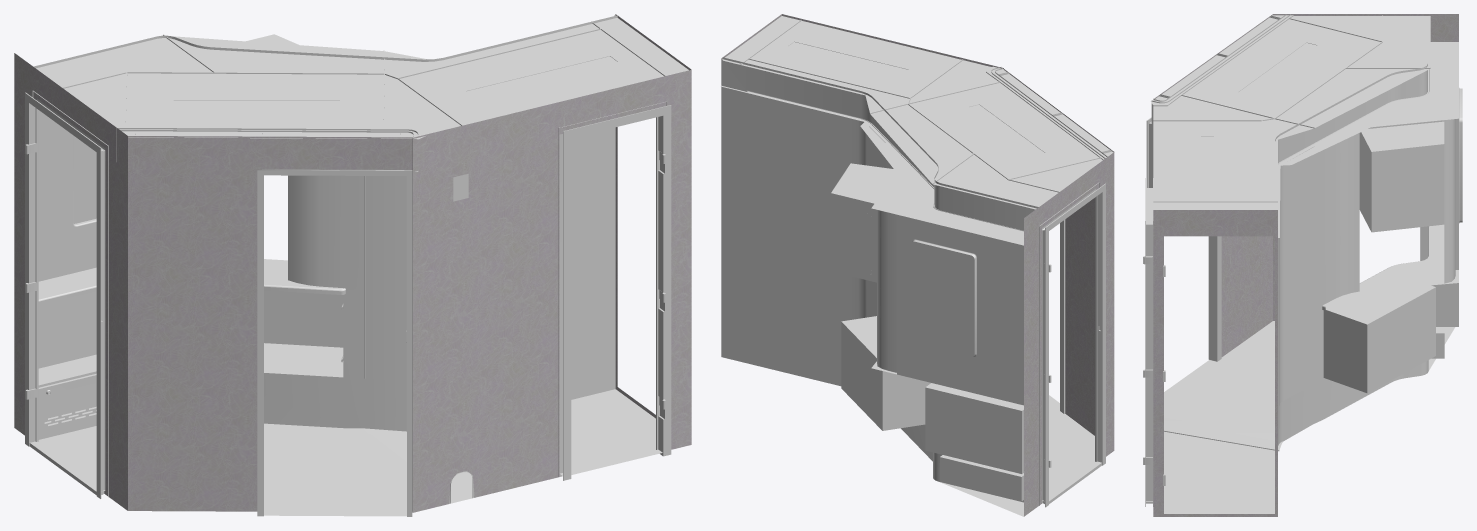
File: Vagon_body_inner_SkewCorridor_01.fbx
The picture shows the model from 3 angles, left to right: view 1: azimuth 30°, elevation 25°; view 2: azimuth 150°, elevation 25°; view 3: azimuth 270°, elevation 25°; orthographic projection. The views are drawn at different scales.
Parts seen in each view (by area): view 1: Vagon_body_inner_SkewCorridor_01; view 2: Vagon_body_inner_SkewCorridor_01; view 3: Vagon_body_inner_SkewCorridor_01.
Boxes of the visible parts, x1,y1,x2,y2 form: Vagon_body_inner_SkewCorridor_01: (14, 14, 691, 516); Vagon_body_inner_SkewCorridor_01: (720, 14, 1114, 516); Vagon_body_inner_SkewCorridor_01: (1143, 14, 1462, 516).
Size of the model in its own units: 3.07 by 2.19 by 2.06.
